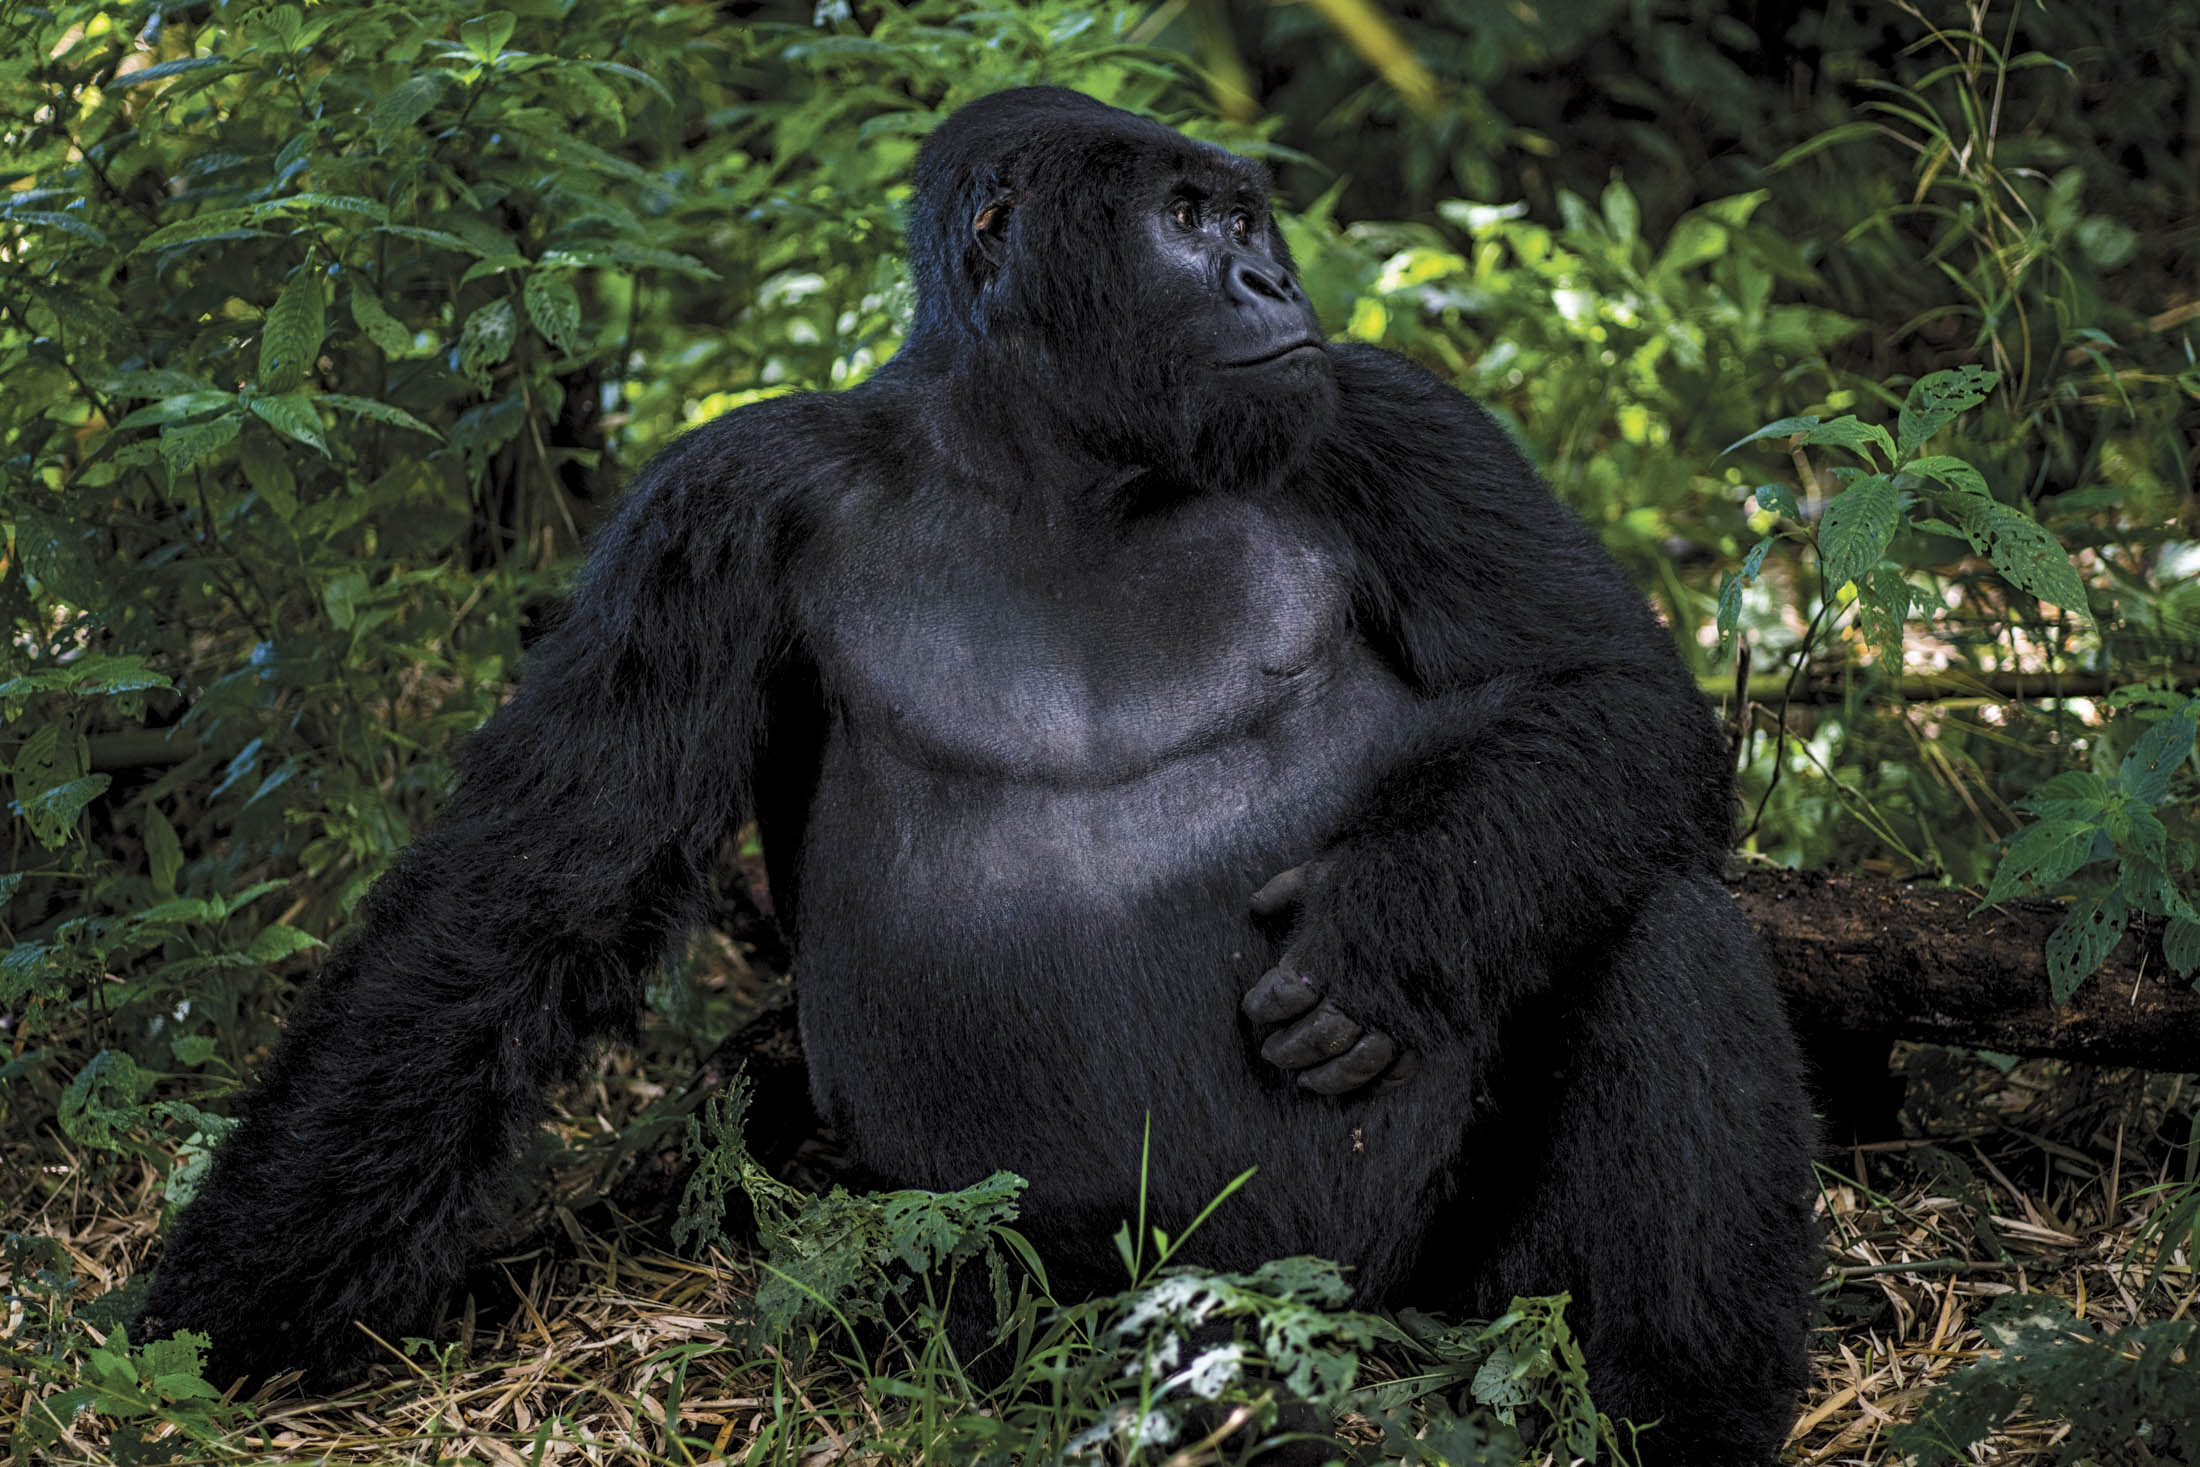Goriila: (370, 57, 1981, 1354)
